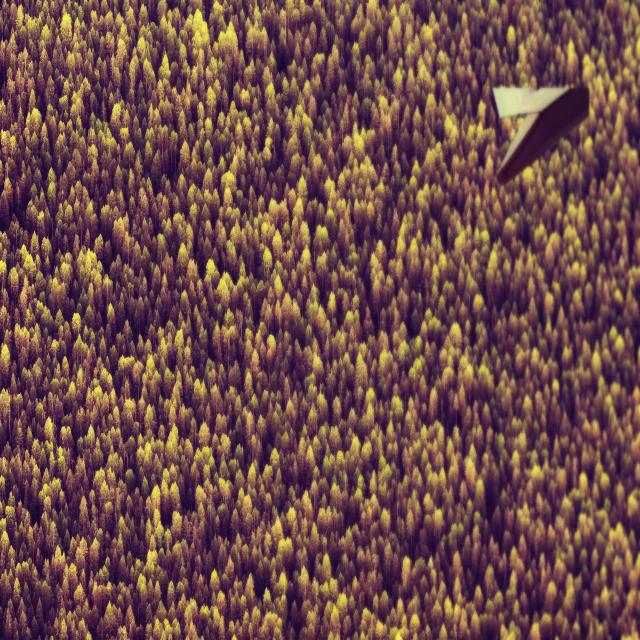airplane: (491, 82, 590, 185)
